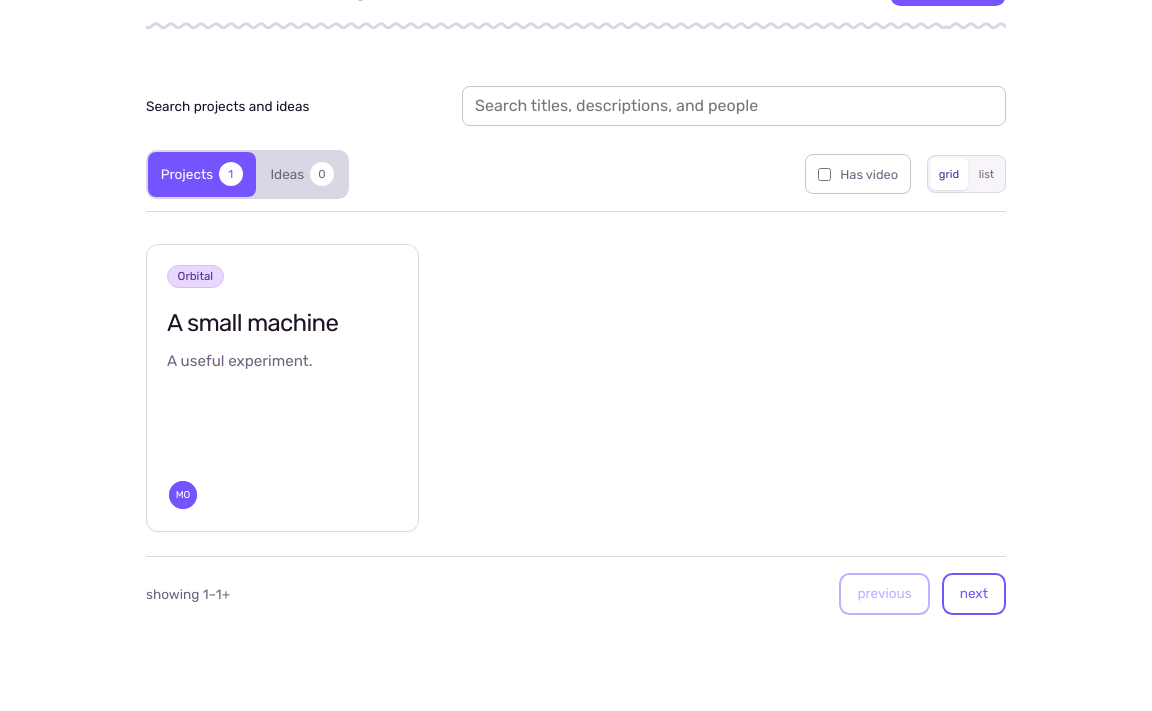
Scenario: clickable project routes › keeps Previous available and announces an empty later page
(page scrolled)
Check: the heading "A small machine" is shown, box x1=167 y1=309 x2=338 y2=337
Click the button "next": click(974, 594) x1=942 y1=573 x2=1006 y2=615
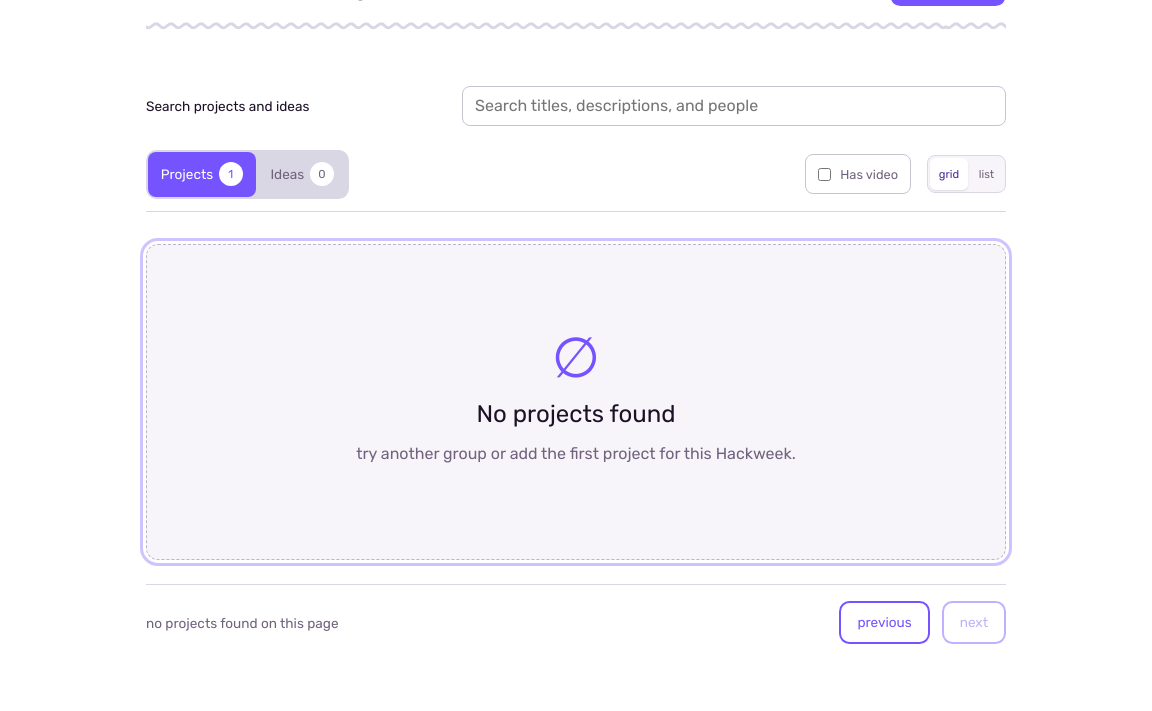
Check: the heading "No projects found" is shown, box x1=476 y1=400 x2=676 y2=428
Check: the message reads "no projects found on this page", box x1=146 y1=614 x2=338 y2=630
Check: the button "previous" is enabled
Click the button "previous": click(885, 622) x1=839 y1=601 x2=930 y2=644
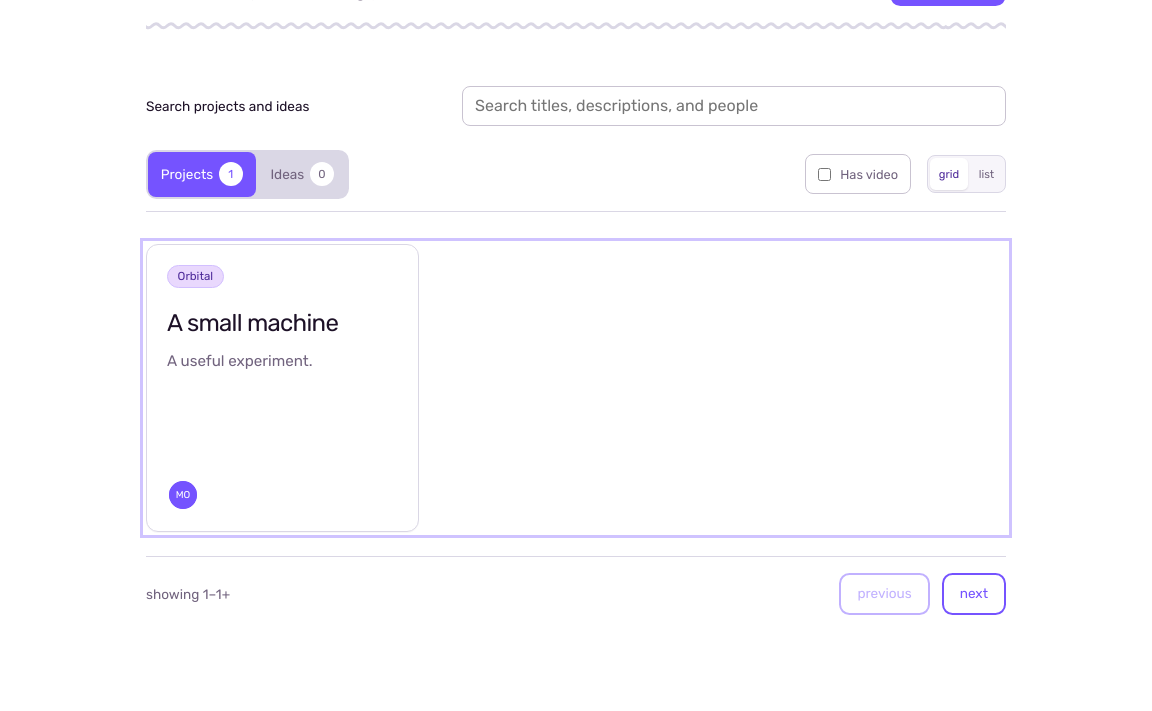
Check: the heading "A small machine" is shown, box x1=167 y1=309 x2=338 y2=337
Check: the button "previous" is disabled, box x1=839 y1=573 x2=930 y2=615
